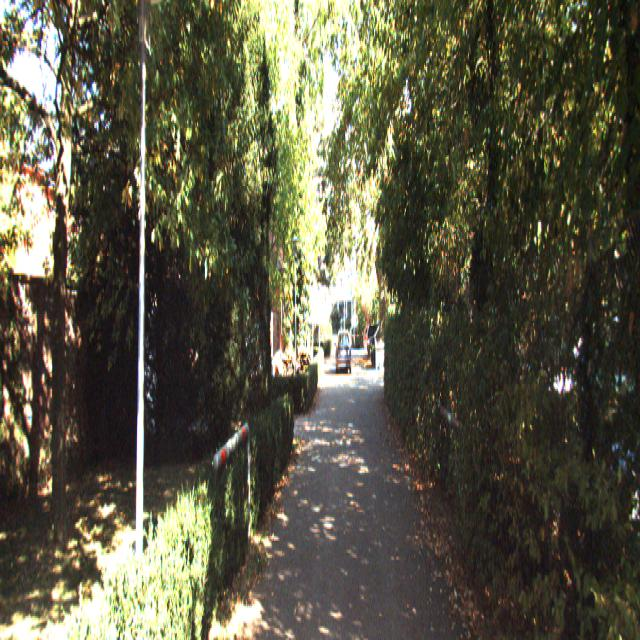Car: (336, 326, 352, 374)
